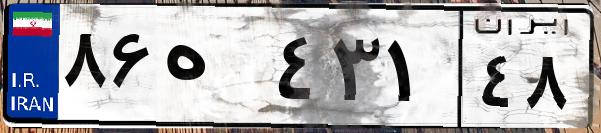1: (385, 28, 445, 110)
3: (330, 28, 385, 110)
4: (270, 28, 330, 110), (475, 38, 525, 113)
6: (110, 28, 158, 98)
8: (57, 26, 110, 100), (525, 38, 570, 115)
ه: (158, 20, 270, 120)
